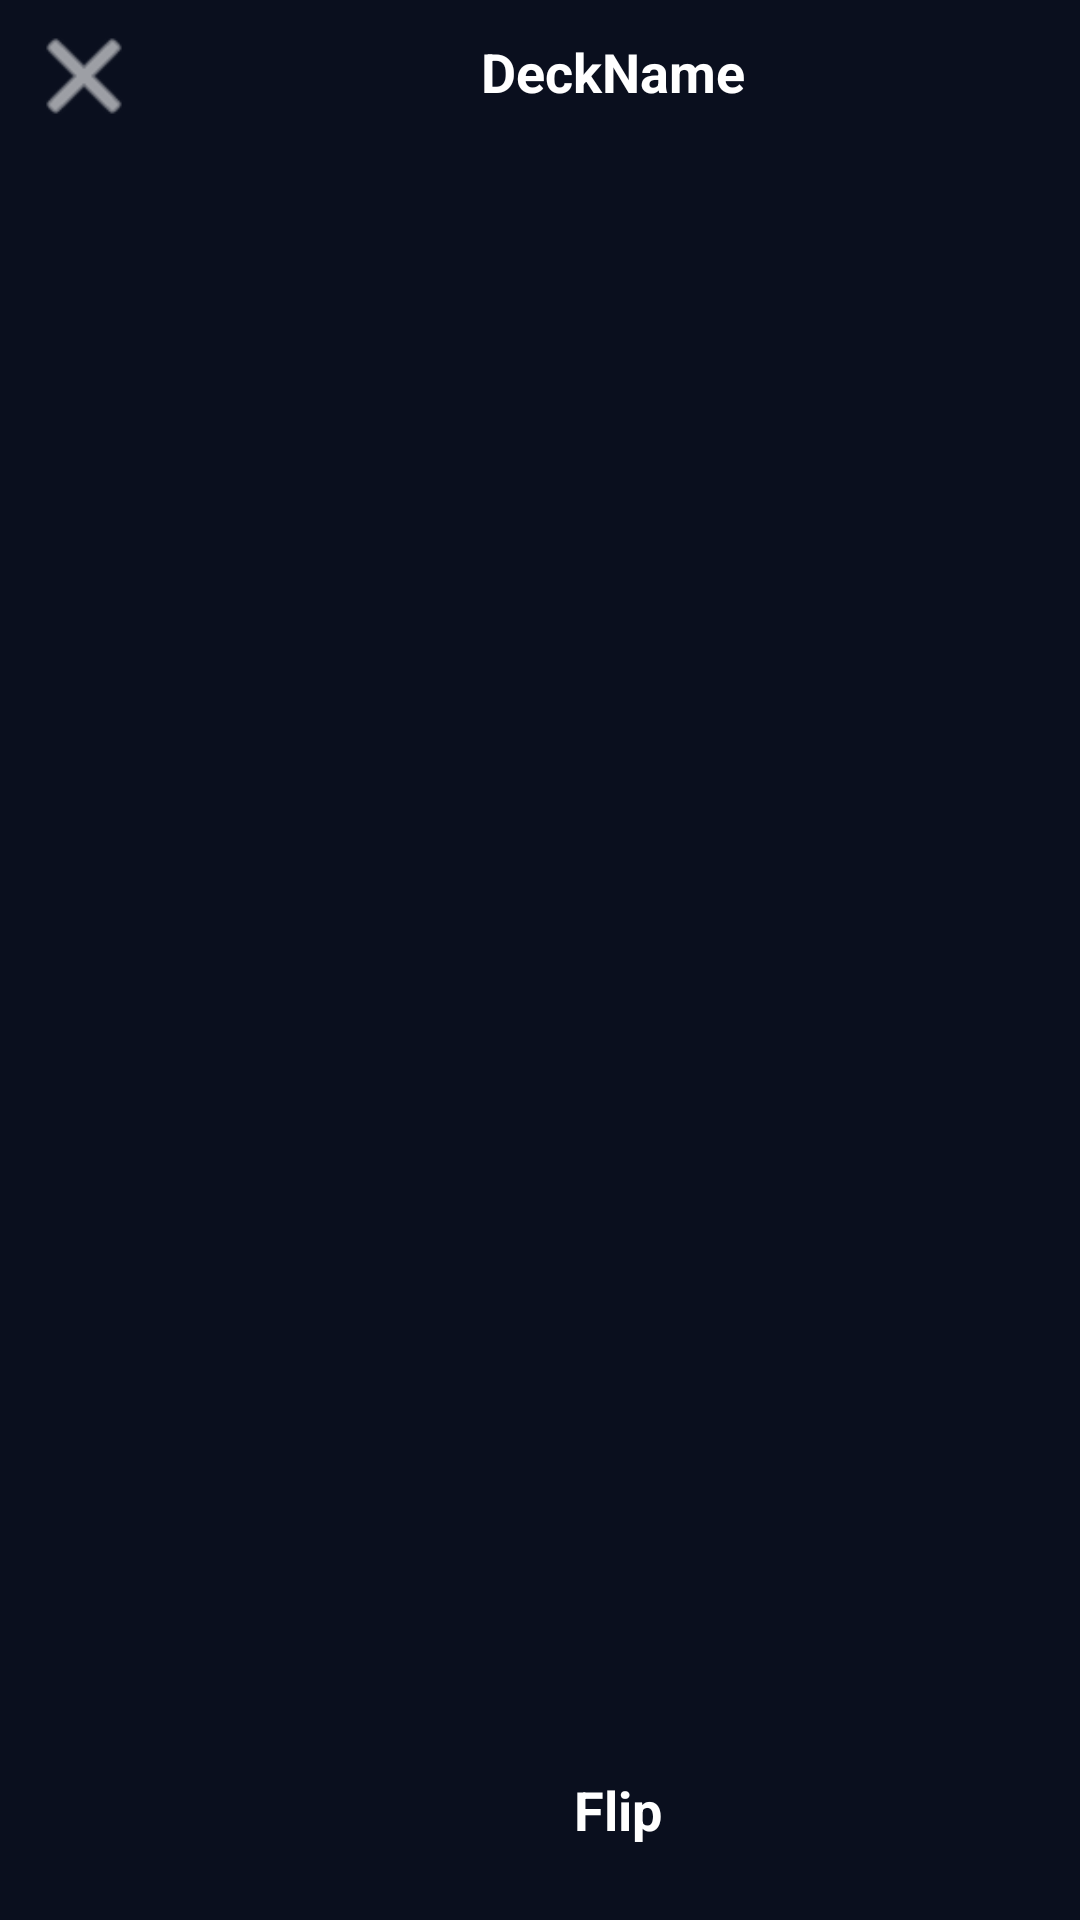

Icons on this 1080w x 1920h Android screen, each with the point to tap as [x,y]:
close clear cancel: [84,76]
